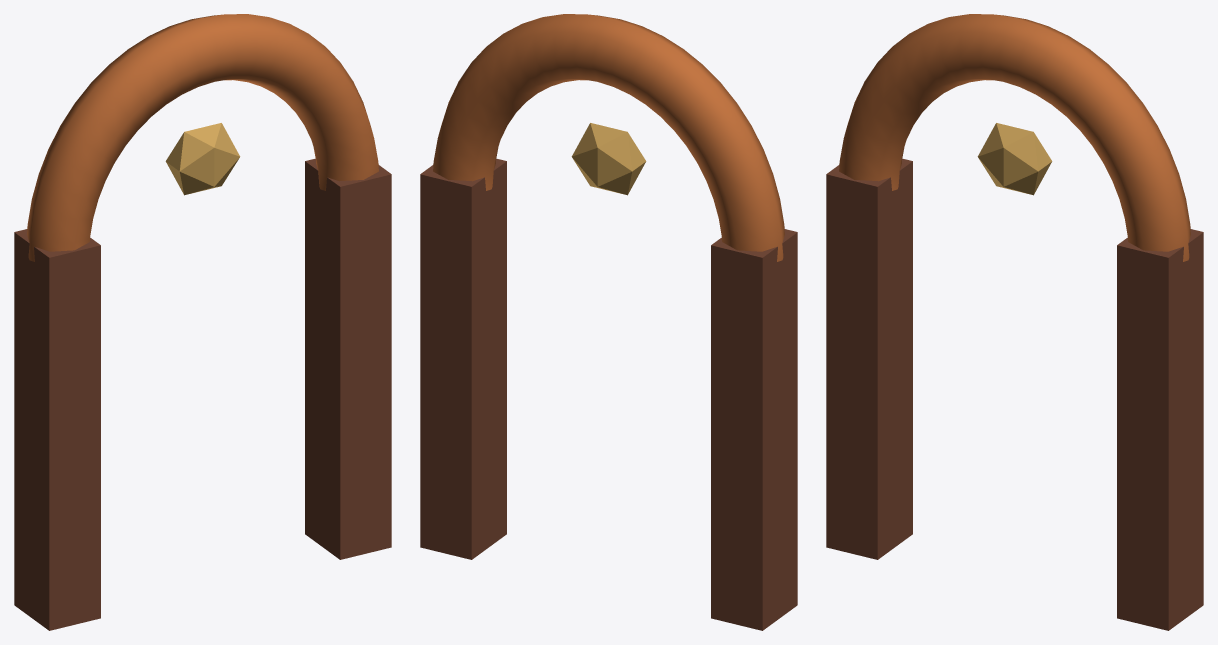
The model's file is gateway.glb.
The picture shows the model from 3 angles, left to right: view 1: azimuth 30°, elevation 25°; view 2: azimuth 150°, elevation 25°; view 3: azimuth 330°, elevation 25°; orthographic projection.
Visible parts, largest first — view 1: pillar_-1, pillar_1, arch, keystone; view 2: pillar_-1, pillar_1, arch, keystone; view 3: pillar_1, pillar_-1, arch, keystone.
Boxes of the visible parts, left/top/right/bottom form: pillar_-1: left=14, top=229, right=100, bottom=630; pillar_1: left=305, top=158, right=391, bottom=559; arch: left=27, top=14, right=378, bottom=261; keystone: left=165, top=123, right=240, bottom=195; pillar_-1: left=711, top=229, right=797, bottom=630; pillar_1: left=420, top=158, right=506, bottom=559; arch: left=433, top=14, right=784, bottom=261; keystone: left=571, top=123, right=646, bottom=195; pillar_1: left=1117, top=229, right=1203, bottom=630; pillar_-1: left=826, top=158, right=912, bottom=559; arch: left=839, top=14, right=1190, bottom=261; keystone: left=977, top=123, right=1052, bottom=195.
Size of what is drawn, in the model's own units: 3.7 by 5.69 by 0.65.
